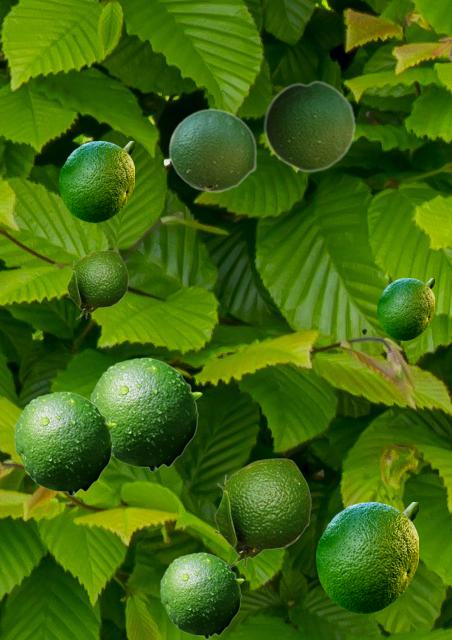dalandan: (90, 357, 201, 471), (316, 502, 417, 612), (213, 458, 310, 567), (14, 391, 115, 495), (263, 80, 355, 172), (168, 108, 256, 192), (160, 552, 243, 638), (59, 141, 133, 221), (66, 250, 127, 318), (377, 278, 433, 339)
